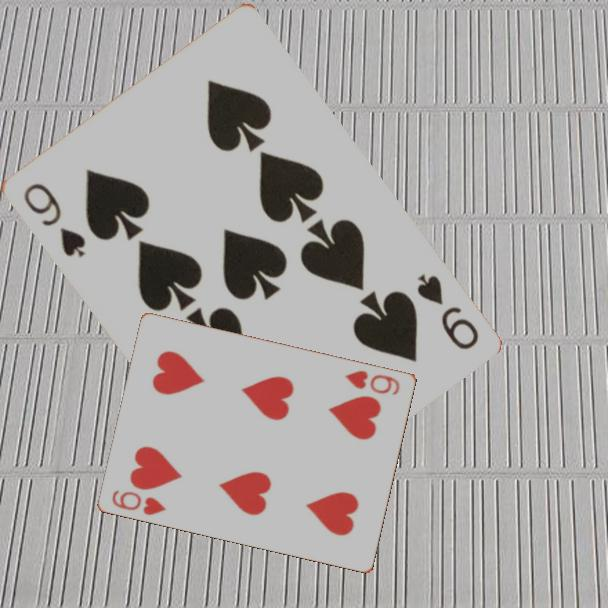h06: (342, 366, 403, 398), (109, 486, 169, 518)
s09: (412, 270, 481, 353), (19, 179, 88, 261)
